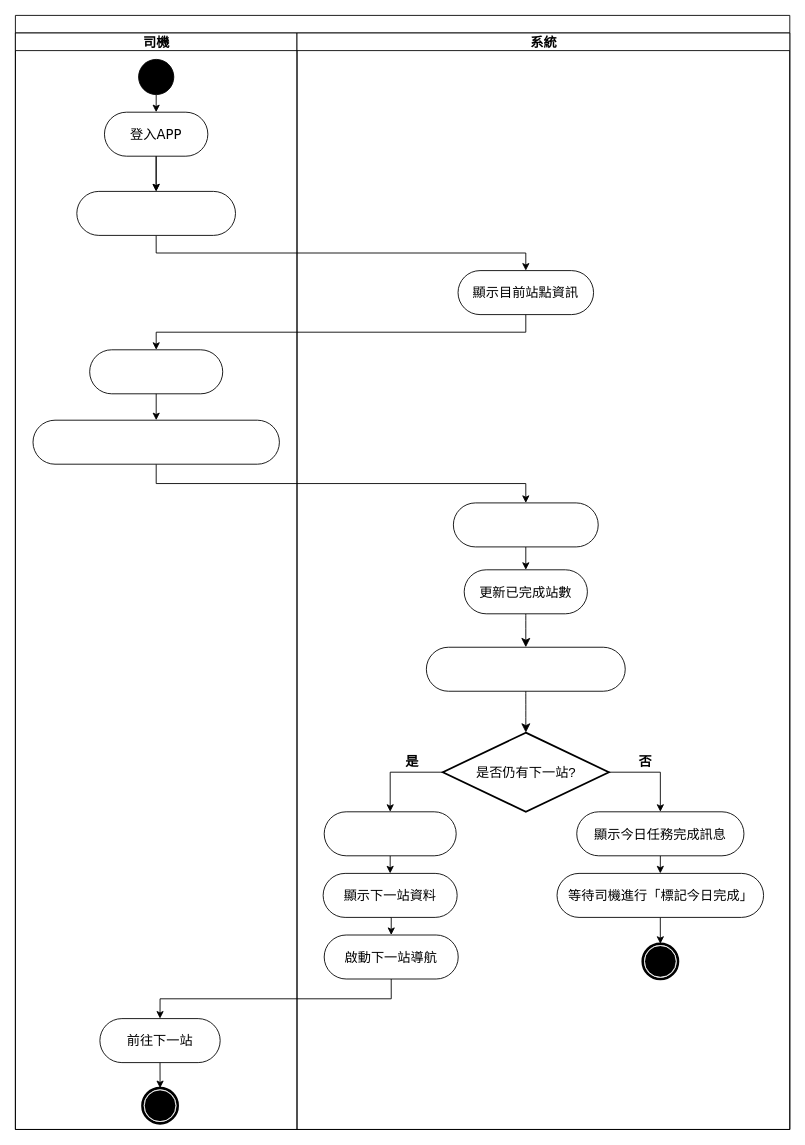
This 805x1145 diagram has some shape labels left out. The box of each missing label's shape, as (x1, y1, x2, y2) in pixels:
切換下一站資訊: (323, 811, 456, 856)
同步更新管理者即時監控畫面: (425, 646, 625, 691)
完成目前站點作業: (89, 349, 223, 394)
更新站點完成狀態: (452, 502, 598, 547)
進入即時定位上傳頁面: (76, 191, 235, 235)
點選「完成目前站點並導航下一站」: (32, 419, 279, 464)
